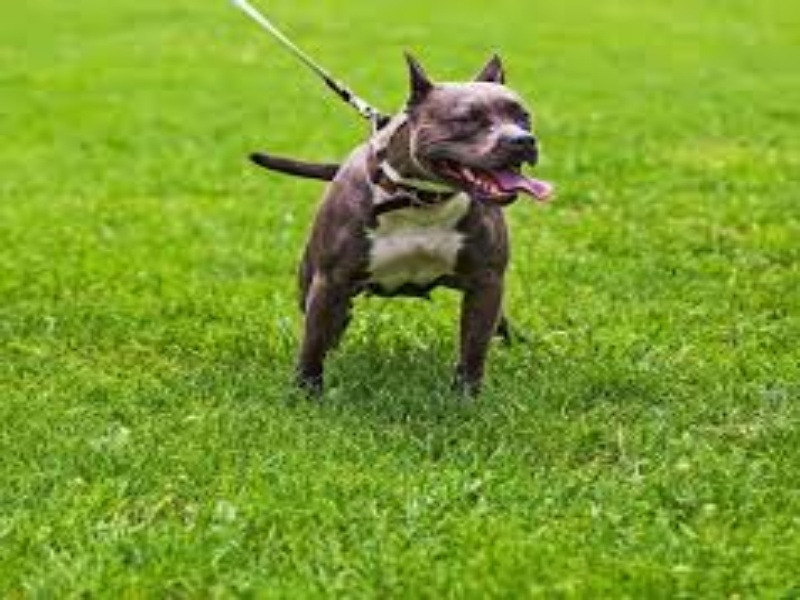dog: (226, 29, 602, 430)
